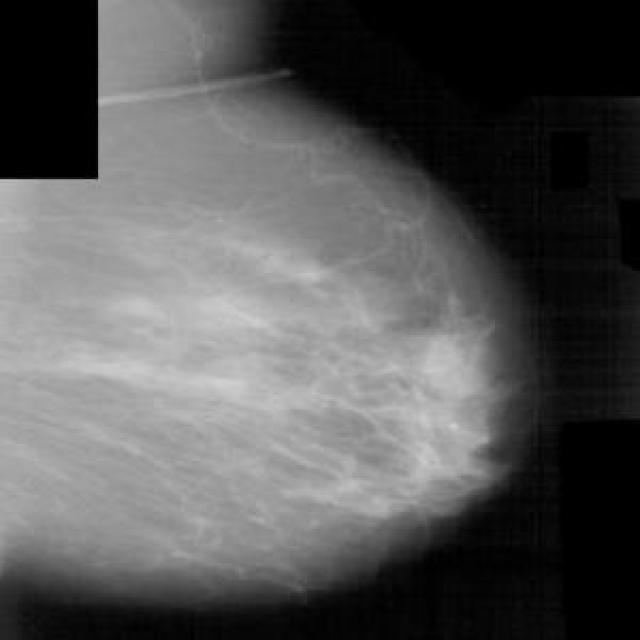tumor: (372, 287, 502, 511)
